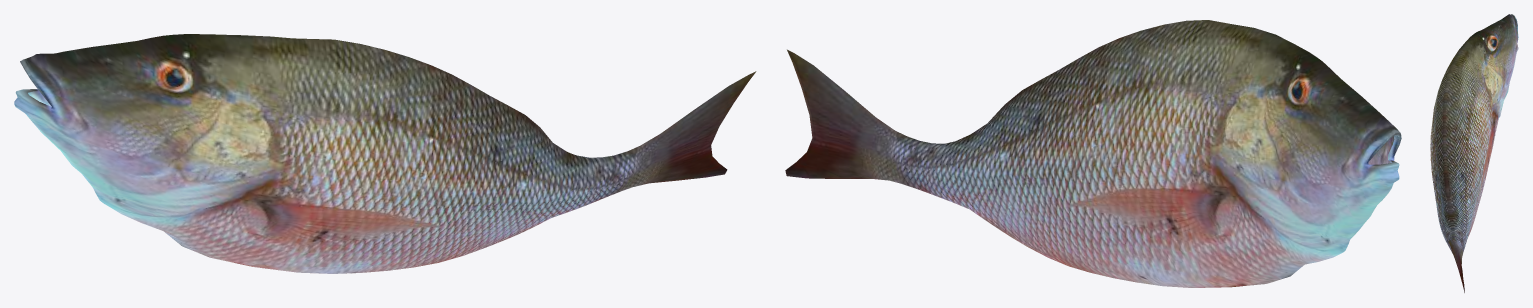
The model's file is fish.gltf.
3 views of the same model, side by side, from view 1: azimuth 30°, elevation 25°; view 2: azimuth 150°, elevation 25°; view 3: azimuth 270°, elevation 25° (orthographic). The views are drawn at different scales.
Visible parts, largest first — view 1: mk_fish; view 2: mk_fish; view 3: mk_fish.
Boxes of the visible parts, x1,y1,x2,y2 form: mk_fish: (14,34,756,273); mk_fish: (785,20,1401,287); mk_fish: (1430,14,1518,292).
Bounding box in the file's own units: 0.145 × 0.0574 × 0.0327.
Materials: 1 (1 with a texture image).
